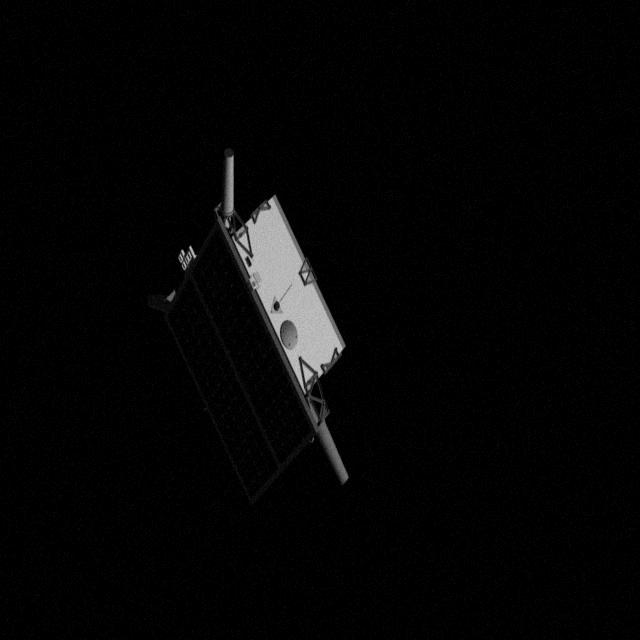medium_debris: (160, 138, 372, 512)
